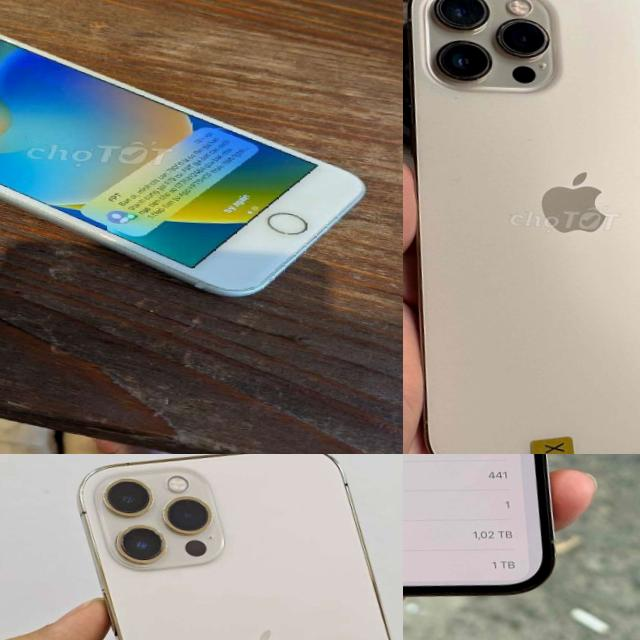scratch: (156, 259, 264, 297)
